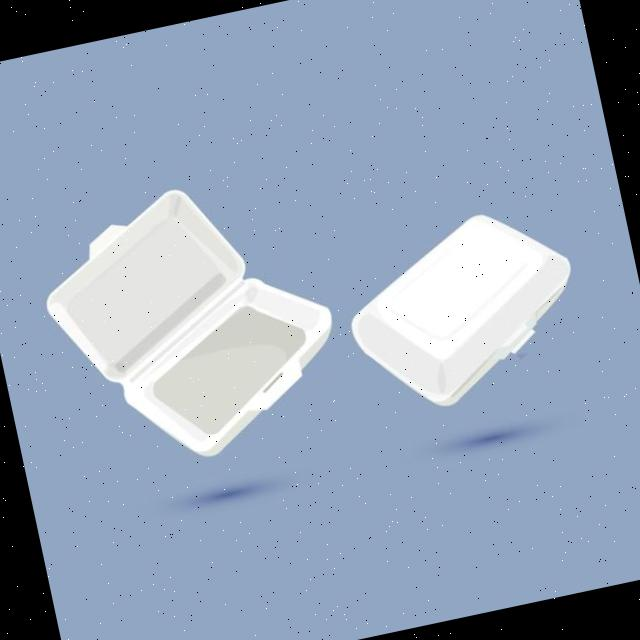styrofoam: (26, 160, 354, 483), (332, 195, 594, 422)
